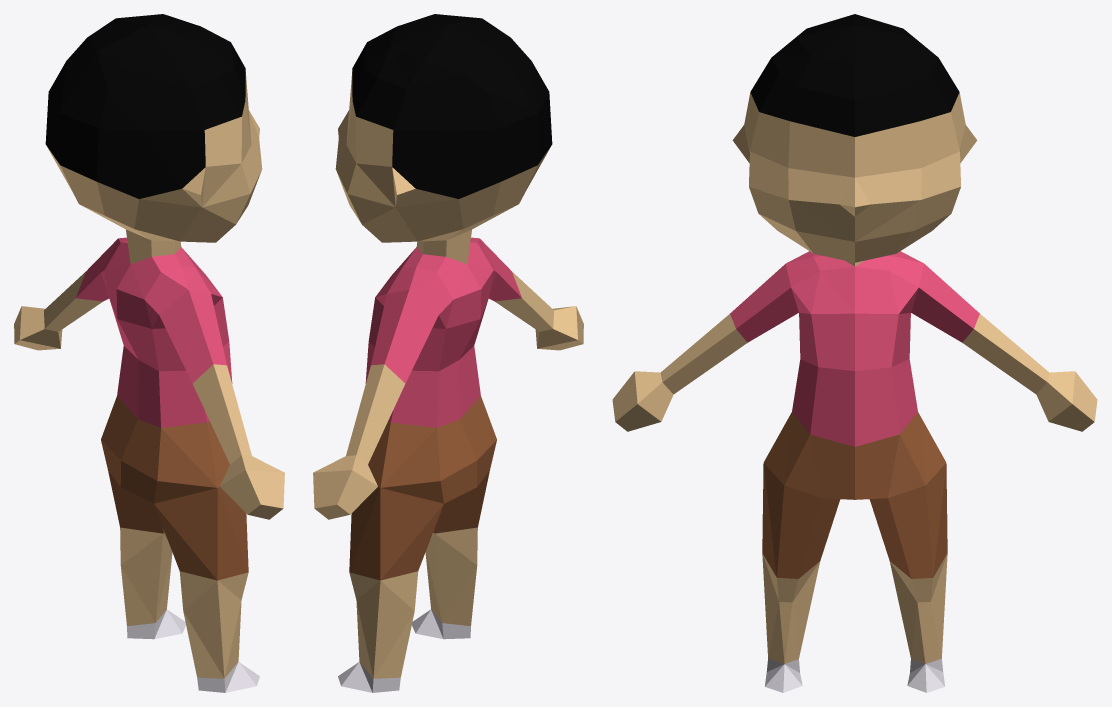
Rendered from Npc4.fbx.
3 views of the same model, side by side, from view 1: azimuth 30°, elevation 25°; view 2: azimuth 150°, elevation 25°; view 3: azimuth 270°, elevation 25° (orthographic).
Visible parts, largest first — view 1: Human_Base.005; view 2: Human_Base.005; view 3: Human_Base.005.
Part boxes in pixels (box(x1,y1,x2,y2)): Human_Base.005: box(14, 14, 284, 692); Human_Base.005: box(313, 14, 583, 692); Human_Base.005: box(612, 14, 1097, 692).
Bounding box in the file's own units: 63.77 × 196 × 136.
